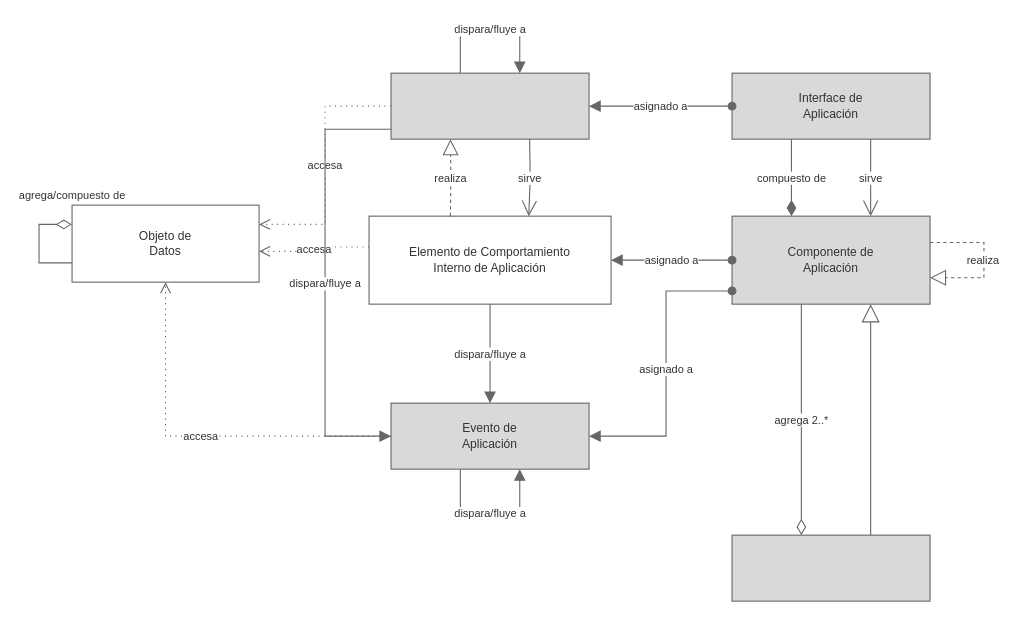
This 1019x620 diagram has some shape labels left out. Here are the shapes that lost their labels. From the top down, the centre of each, then its label:
At (x=489, y=105): "Servicio de Aplicación".
At (x=830, y=567): "Colaboración de Aplicación".
